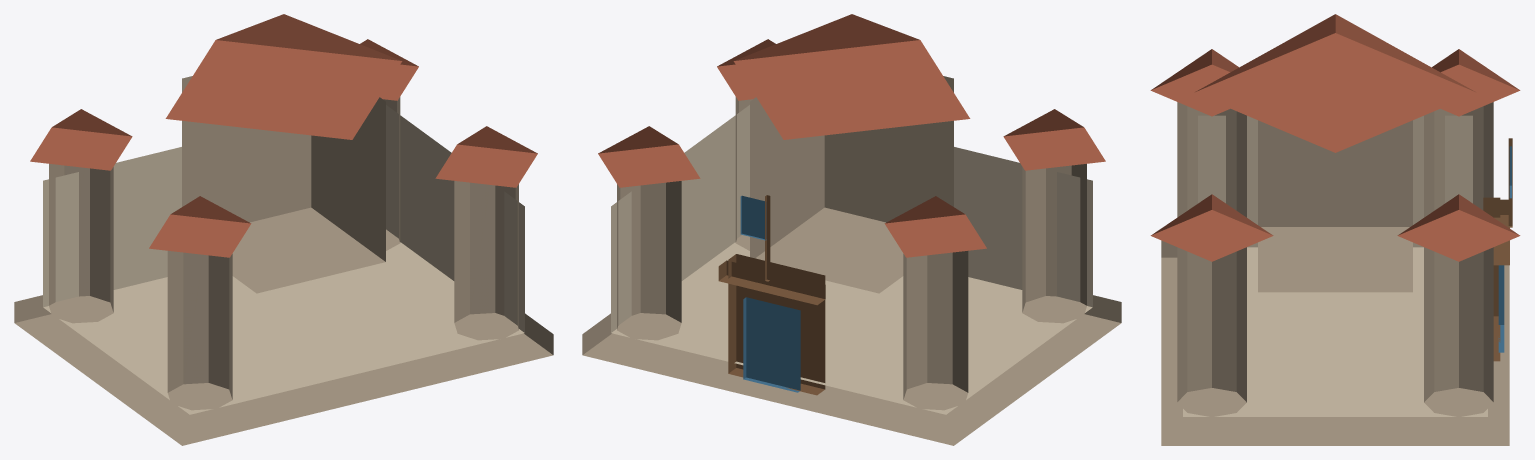
File: TownCenter_authoring.glb
3 renders of one model, left to right at view 1: azimuth 30°, elevation 25°; view 2: azimuth 150°, elevation 25°; view 3: azimuth 270°, elevation 25°, orthographic. The views are drawn at different scales.
Parts seen in each view (by area): view 1: TownCenter_authoring; view 2: TownCenter_authoring; view 3: TownCenter_authoring.
Part boxes in pixels (x1,y1,x2,y2): TownCenter_authoring: (14,14,553,445); TownCenter_authoring: (582,14,1121,445); TownCenter_authoring: (1150,14,1520,445).
Size of the model in its own units: 9.65 by 7.7 by 7.65.
